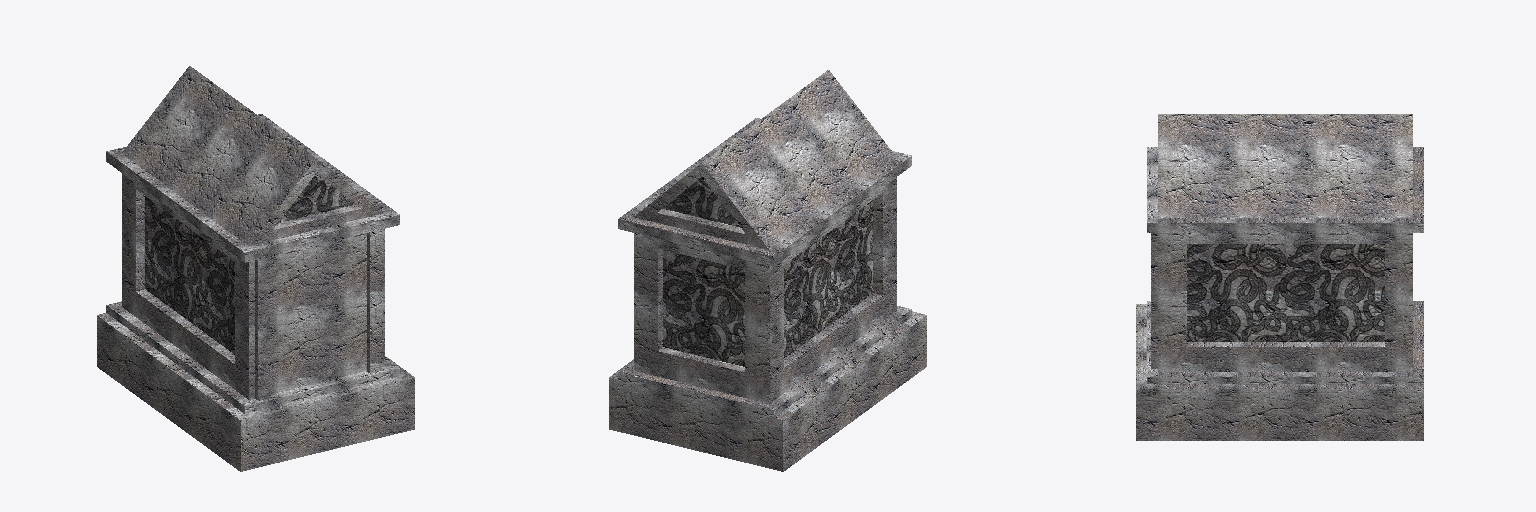
3 views of the same model, side by side, from view 1: azimuth 30°, elevation 25°; view 2: azimuth 150°, elevation 25°; view 3: azimuth 270°, elevation 25° (orthographic).
Parts seen in each view (by area): view 1: Mesh1 Model; view 2: Mesh1 Model; view 3: Mesh1 Model.
Boxes of the visible parts, x1=… form: Mesh1 Model: x1=97, y1=66, x2=414, y2=471; Mesh1 Model: x1=609, y1=70, x2=926, y2=471; Mesh1 Model: x1=1136, y1=114, x2=1423, y2=440.
Size of the model in its own units: 3602 by 5589 by 5134.
Materials: 2 (2 with a texture image).